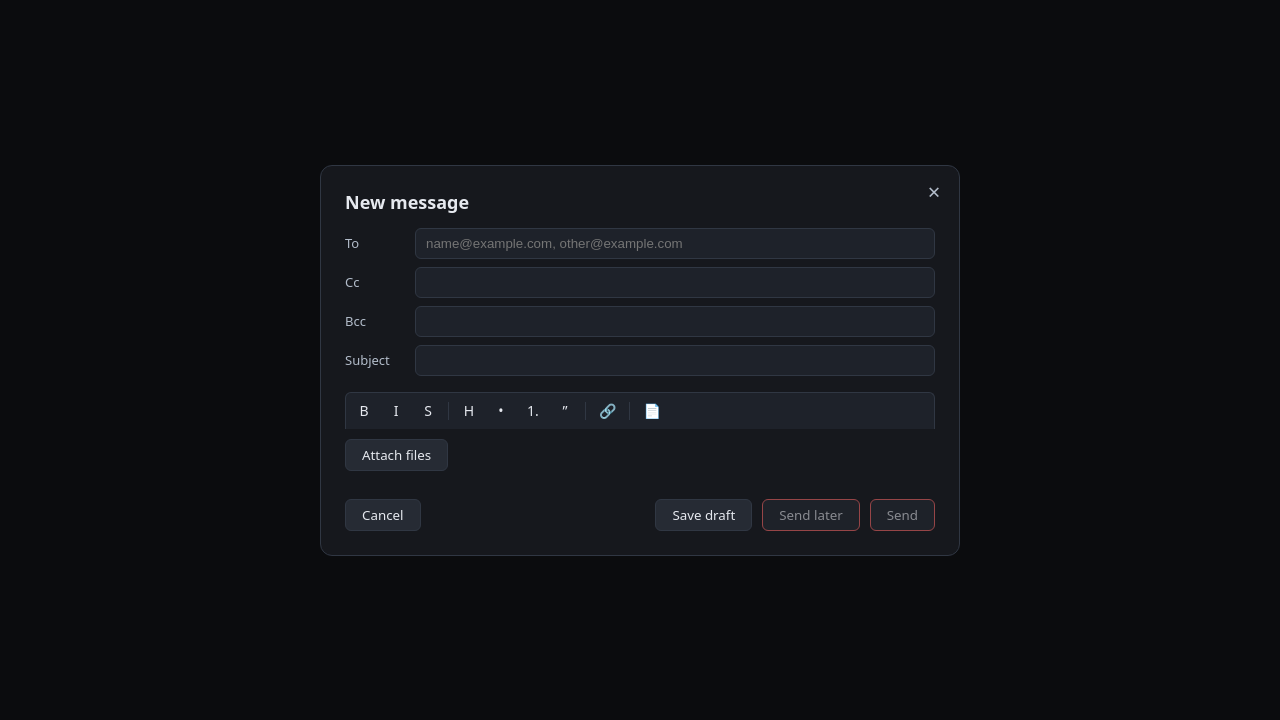
Test: ComposeModal: attachments › attaches picked files and removes a chip
This screenshot has width=1280, height=720.
Click the button "Attach files". click: [397, 454]
box: [345,438,448,470]
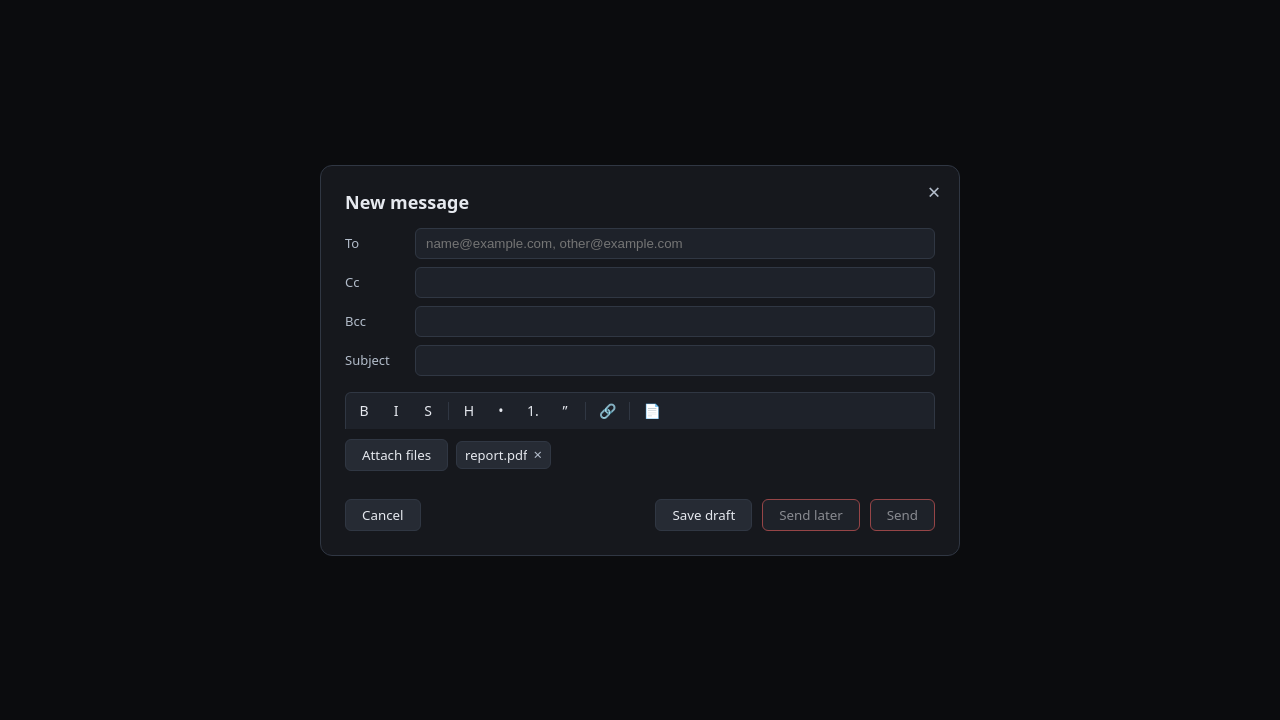
Check: the text "report.pdf" is shown, box [465,446,527,464]
Click the button named "Remove report.pdf". click: [538, 454]
box: [533,447,542,462]
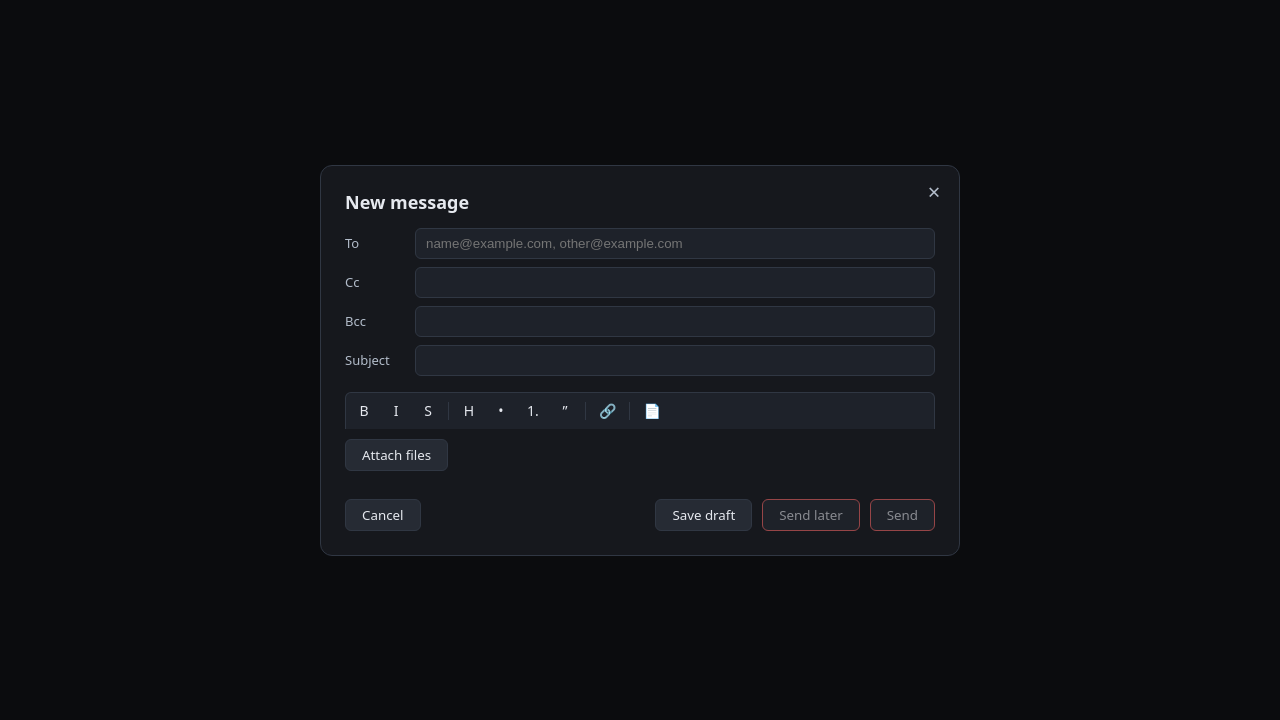
Check: the text "report.pdf" is gone
